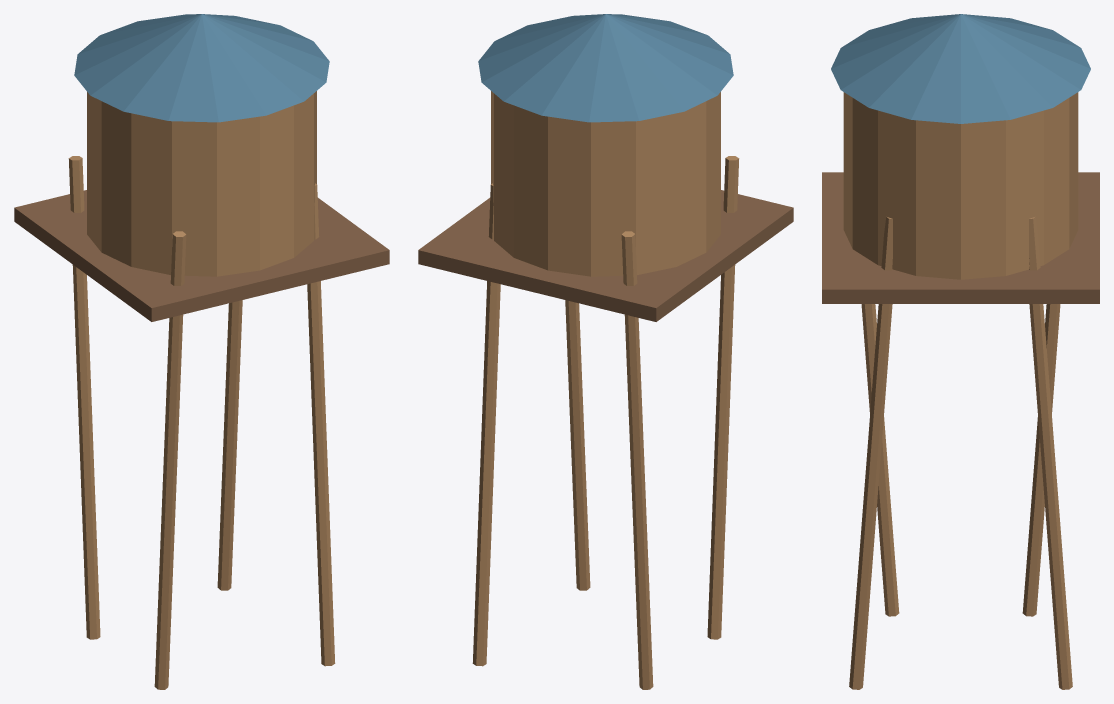
The model's file is water-tower.glb.
3 views of the same model, side by side, from view 1: azimuth 30°, elevation 25°; view 2: azimuth 150°, elevation 25°; view 3: azimuth 270°, elevation 25° (orthographic).
Visible parts, largest first — view 1: WaterTower_Tank, WaterTower_Roof, WaterTower_Deck, WaterTower_Leg_-1.0_-1.0, WaterTower_Leg_-1.0_1.0, WaterTower_Leg_1.0_-1.0, WaterTower_Leg_1.0_1.0; view 2: WaterTower_Tank, WaterTower_Roof, WaterTower_Deck, WaterTower_Leg_-1.0_1.0, WaterTower_Leg_-1.0_-1.0, WaterTower_Leg_1.0_1.0, WaterTower_Leg_1.0_-1.0; view 3: WaterTower_Tank, WaterTower_Roof, WaterTower_Deck, WaterTower_Leg_1.0_-1.0, WaterTower_Leg_1.0_1.0, WaterTower_Leg_-1.0_-1.0, WaterTower_Leg_-1.0_1.0.
Boxes of the visible parts, x1,y1,x2,y2 form: WaterTower_Tank: (87, 91, 316, 276); WaterTower_Roof: (74, 14, 329, 122); WaterTower_Deck: (14, 190, 389, 321); WaterTower_Leg_-1.0_-1.0: (154, 231, 186, 689); WaterTower_Leg_-1.0_1.0: (68, 156, 100, 639); WaterTower_Leg_1.0_-1.0: (307, 183, 335, 666); WaterTower_Leg_1.0_1.0: (217, 300, 242, 590); WaterTower_Tank: (491, 91, 720, 276); WaterTower_Roof: (478, 14, 733, 122); WaterTower_Deck: (418, 190, 793, 321); WaterTower_Leg_-1.0_1.0: (621, 231, 653, 689); WaterTower_Leg_-1.0_-1.0: (707, 156, 739, 639); WaterTower_Leg_1.0_1.0: (472, 183, 500, 666); WaterTower_Leg_1.0_-1.0: (565, 300, 590, 590); WaterTower_Tank: (843, 92, 1078, 279); WaterTower_Roof: (831, 14, 1090, 123); WaterTower_Deck: (822, 172, 1099, 303); WaterTower_Leg_1.0_-1.0: (849, 217, 892, 689); WaterTower_Leg_1.0_1.0: (1029, 217, 1072, 689); WaterTower_Leg_-1.0_-1.0: (861, 304, 899, 616); WaterTower_Leg_-1.0_1.0: (1022, 304, 1060, 616).
Bounding box in the file's own units: 3.2 × 8.1 × 3.2.
